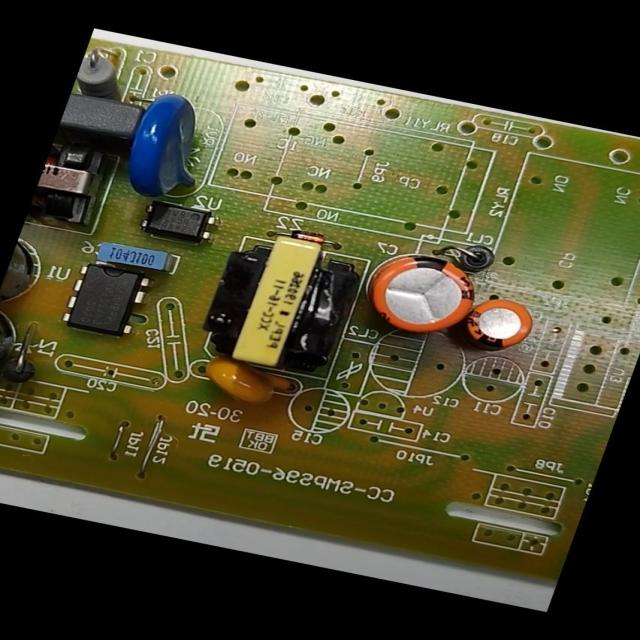Cap1: (347, 242, 495, 347)
Cap2: (447, 289, 545, 361)
Cap3: (0, 223, 56, 317)
Cap4: (0, 299, 37, 406)
MOSFET: (48, 254, 162, 347)
Mov: (107, 82, 233, 210)
Resistor: (68, 48, 142, 110)
Transformer: (185, 220, 377, 384), (23, 131, 127, 238)
